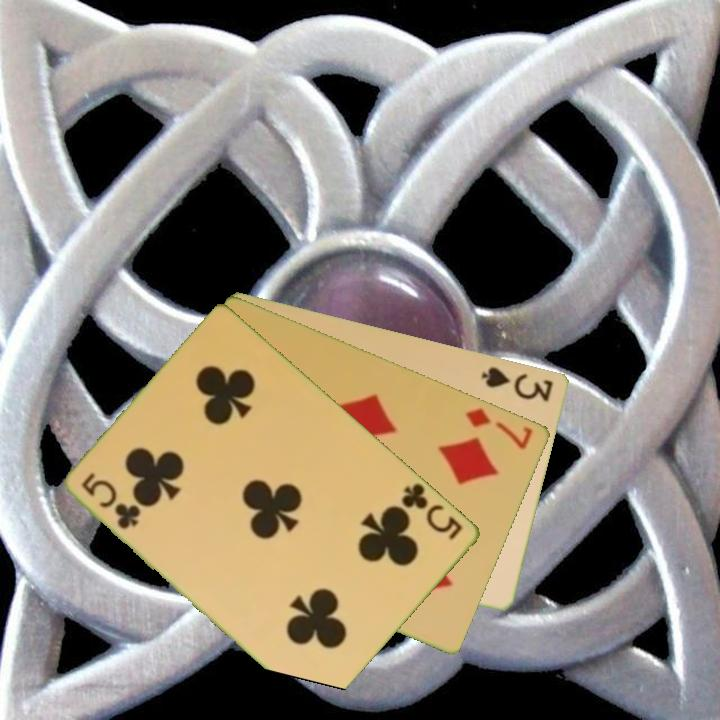3s: (478, 362, 557, 404)
5c: (398, 479, 466, 543), (78, 468, 144, 533)
7d: (462, 404, 536, 452)
